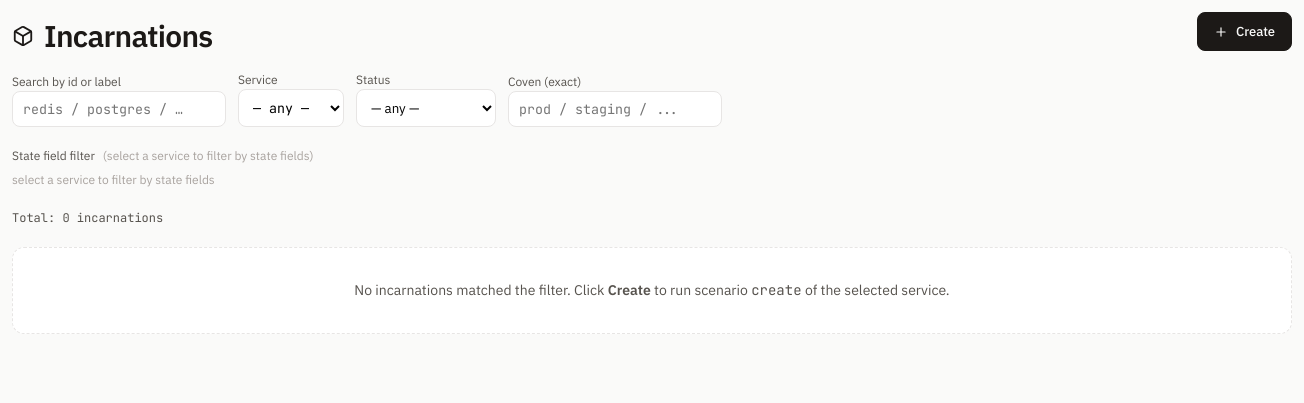
IncarnationsList — state filter › 422 from backend shows an error, no crash
Select "redis" in the dropdown labelled "Service" at (291, 108), box [238,89,344,127]
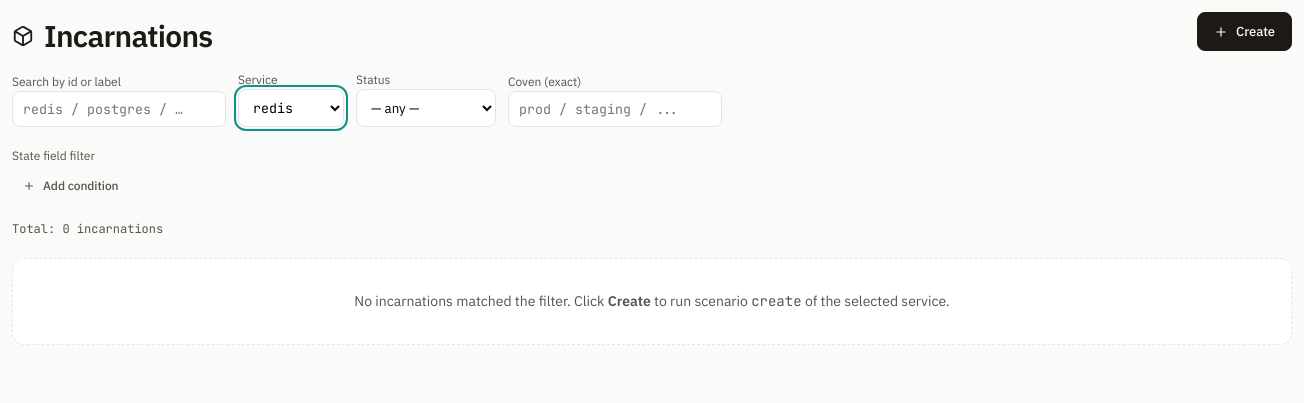
Result: the button "Add condition" is shown
Click the button "Add condition" at (71, 186), box [12,171,130,200]
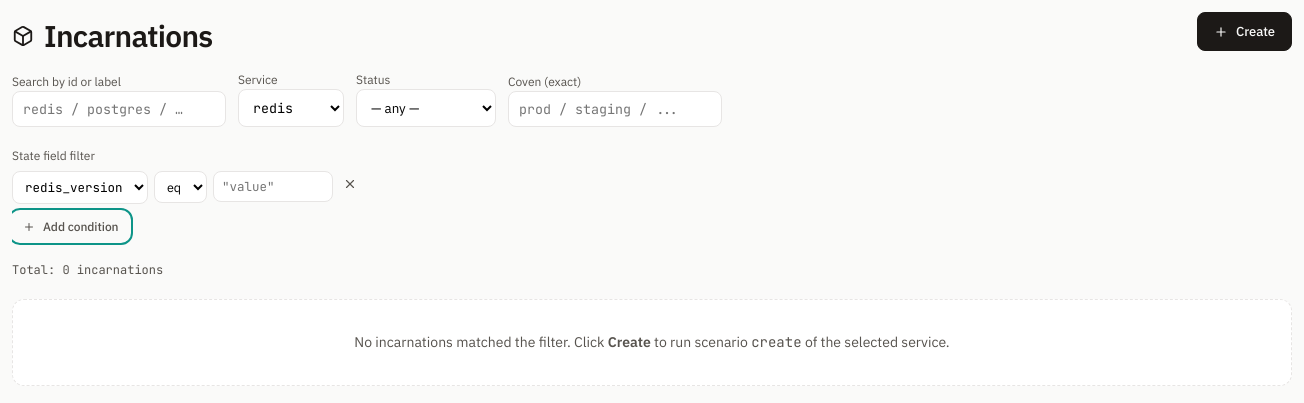
Select "maxmemory" in the dropdown named "state field" at (80, 188), box [12,171,148,204]
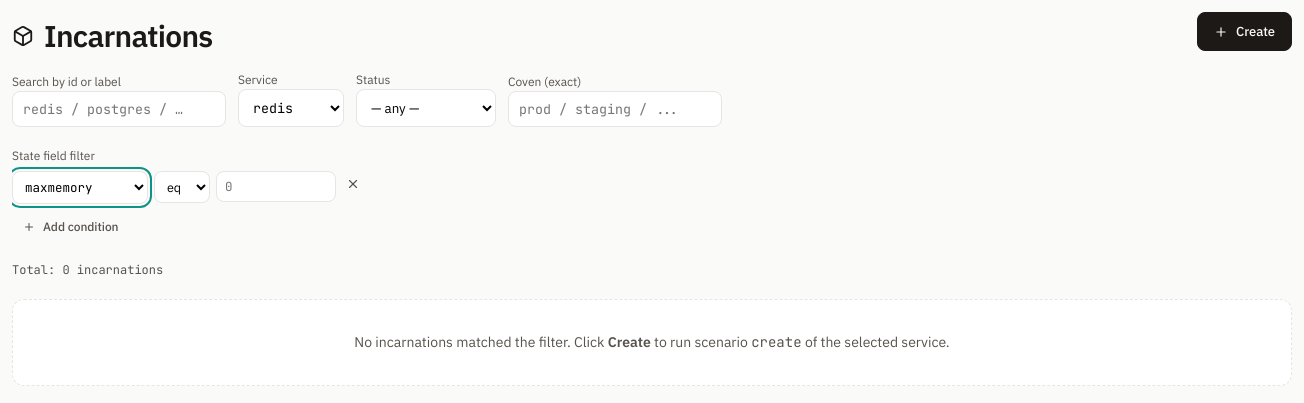
Select "gte" in the dropdown named "operator" at (182, 187), box [154,171,210,203]
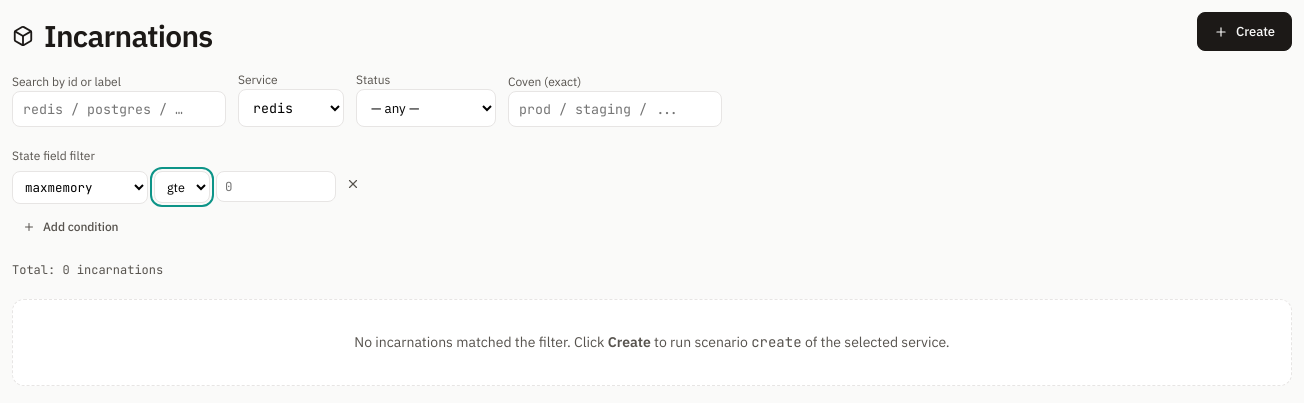
Type "100" into the number field named "value" at (276, 186), box [216,171,336,202]
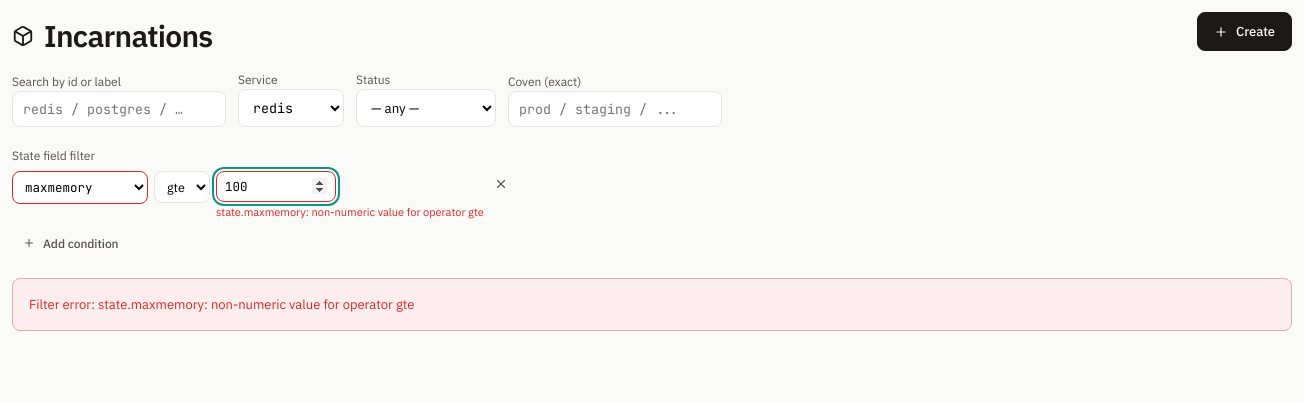
Result: the text "Filter error" is shown at [29,296,414,312]
